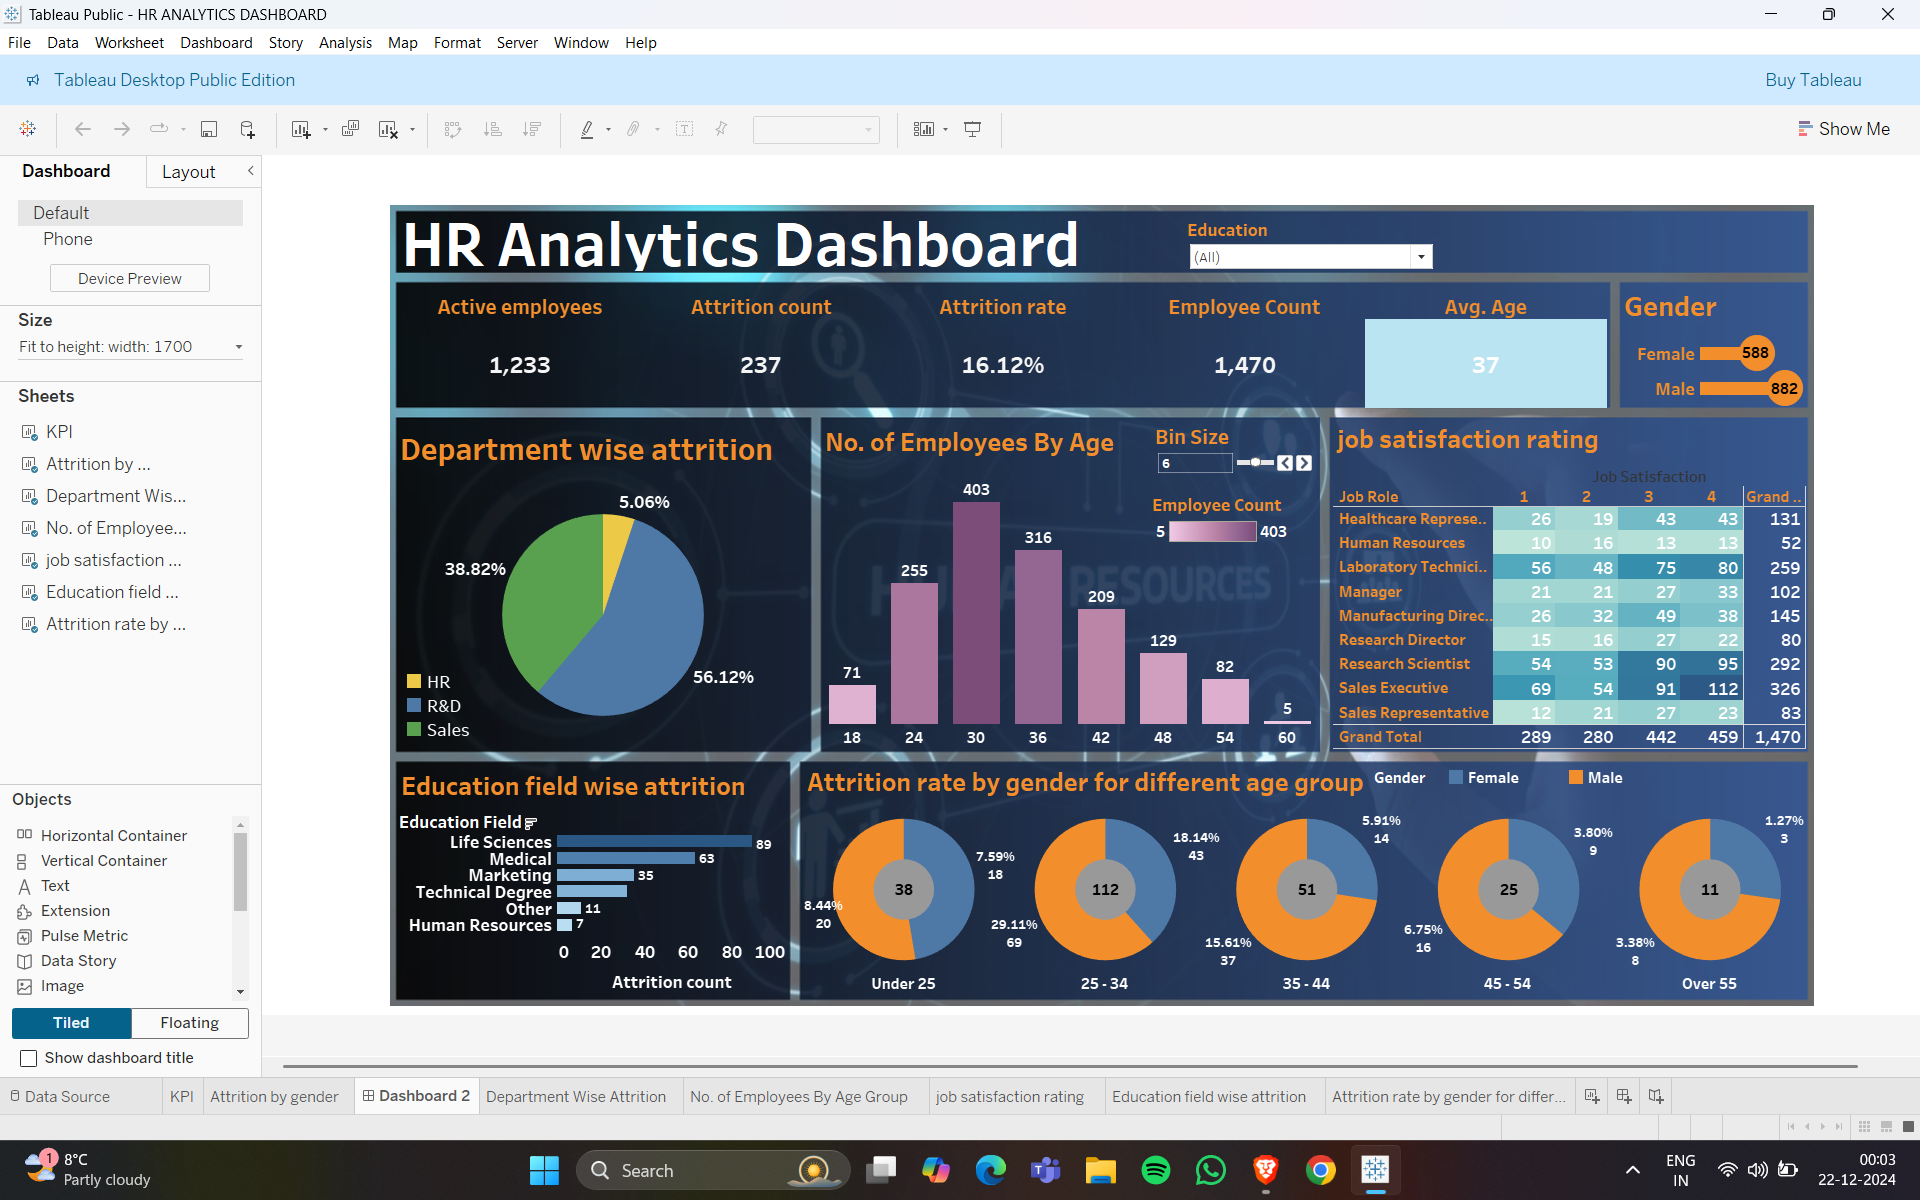

This screenshot's page, from the dashboard's own definition file:
{"tool":"tableau","page":{"name":"Dashboard 2","canvas":[1000,1000],"units":"permille","ordinal":0},"visuals":[{"type":"image","param":"C:/Users/91781/Desktop/HR background.pptx.png","box":[29.4,58.1,930,931.4]},{"type":"text","box":[80,66.3,464.7,68.6]},{"type":"filter","title":"Attrition rate by gender for different age group ","param":"[federated.136e1hk1wvo7dc0zuq9df1gta2ii].[none:Education:nk]","box":[544.1,73.3,146.5,61.6]},{"type":"worksheet","title":"KPI","mark":"Automatic","box":[80.6,144.2,710.6,150]},{"type":"worksheet","title":"Attrition by gender","mark":"Automatic","rows":["Gender"],"cols":["Employee Count","Employee Count"],"box":[798.8,148.8,110,143]},{"type":"worksheet","title":"job satisfaction rating ","mark":"Square","rows":["Job Role"],"cols":["Job Satisfaction"],"box":[630,304.7,278.2,386.1]},{"type":"worksheet","title":"No. of Employees By Age Group ","mark":"Automatic","rows":["Employee Count"],"cols":["Age (bin)"],"box":[328.8,308.1,292.9,382.6]},{"type":"parameter","param":"[Parameters].[Parameter 1]","box":[525.3,310.5,94.1,82.6]},{"type":"worksheet","title":"Department Wise Attrition","mark":"Pie","box":[78.8,311.6,243.5,381.4]},{"type":"legend","title":"No. of Employees By Age Group ","param":"[federated.136e1hk1wvo7dc0zuq9df1gta2ii].[sum:Employee Count:qk]","box":[523.5,393,82.4,97.7]},{"type":"legend","title":"Department Wise Attrition","param":"[federated.136e1hk1wvo7dc0zuq9df1gta2ii].[none:Department:nk]","box":[82.4,597.7,56.5,90.7]},{"type":"worksheet","title":"Attrition rate by gender for different age group ","mark":"Pie","rows":["Calculation_1429892909247315969","Calculation_1429892909247315969"],"cols":["CF_age band"],"box":[318.2,703.5,592.9,273.3]},{"type":"worksheet","title":"Education field wise attrition","mark":"Automatic","rows":["Education Field"],"cols":["Calculation_799670435978227712"],"box":[79.4,708.1,229.4,274.4]},{"type":"legend","title":"Attrition rate by gender for different age group ","param":"[federated.136e1hk1wvo7dc0zuq9df1gta2ii].[none:Gender:nk]","box":[654.1,711.6,247.7,44.2]}]}

Visuals, with their boxes on the dashboard's canvas, which has no fixed pixel size, in thousandths of its width and height (x1, y1, x2, y2). These are canvas units, not pixel positions in the 1920x1200 screenshot, which may show the page scaled, cropped or inside an application window:
image: (x1=29, y1=58, x2=959, y2=990)
text: (x1=80, y1=66, x2=545, y2=135)
"Attrition rate by gender for different age group " filter: (x1=544, y1=73, x2=691, y2=135)
"KPI" worksheet: (x1=81, y1=144, x2=791, y2=294)
"Attrition by gender" worksheet: (x1=799, y1=149, x2=909, y2=292)
"job satisfaction rating " worksheet (Square marks): (x1=630, y1=305, x2=908, y2=691)
"No. of Employees By Age Group " worksheet: (x1=329, y1=308, x2=622, y2=691)
parameter: (x1=525, y1=310, x2=619, y2=393)
"Department Wise Attrition" worksheet (Pie marks): (x1=79, y1=312, x2=322, y2=693)
"No. of Employees By Age Group " legend: (x1=524, y1=393, x2=606, y2=491)
"Department Wise Attrition" legend: (x1=82, y1=598, x2=139, y2=688)
"Attrition rate by gender for different age group " worksheet (Pie marks): (x1=318, y1=704, x2=911, y2=977)
"Education field wise attrition" worksheet: (x1=79, y1=708, x2=309, y2=982)
"Attrition rate by gender for different age group " legend: (x1=654, y1=712, x2=902, y2=756)
